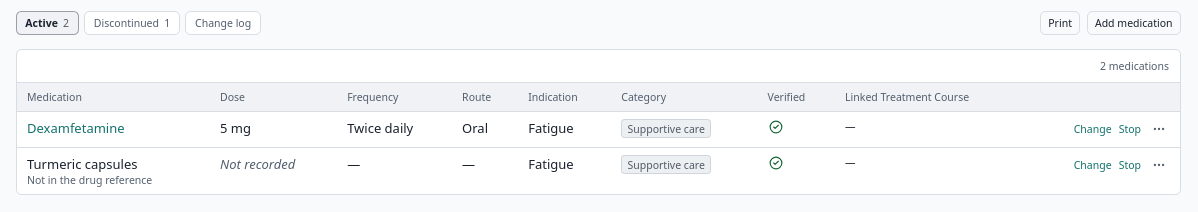
Test: Medication Manager › shows discontinued Medications with why, and the change log with who and why
Click the button "Discontinued 1" at (132, 23), box [84,10,180,35]
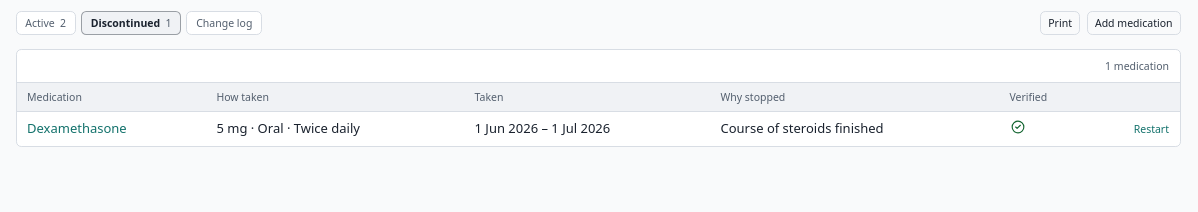
Check: the table named "Discontinued medications" shows "Course of steroids finished", box [720,118,884,136]
Click the button "Change log" at (224, 23), box [186,10,262,35]
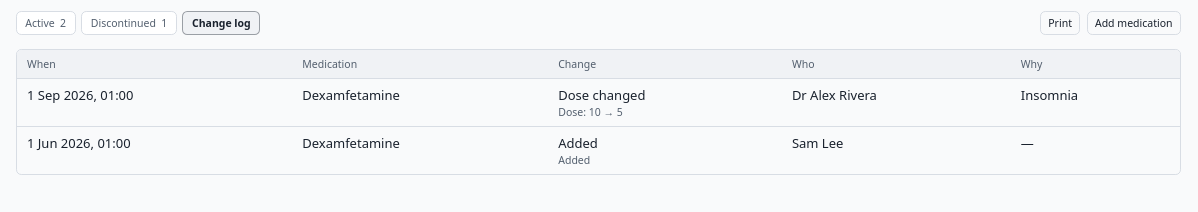
Check: the text "Dose changed" shows "Dose: 10 → 5", box [558,105,623,119]
Check: the text "Dose changed" shows "Dr Alex Rivera", box [792,86,877,104]
Check: the text "Dose changed" shows "Insomnia", box [1021,86,1078,104]
